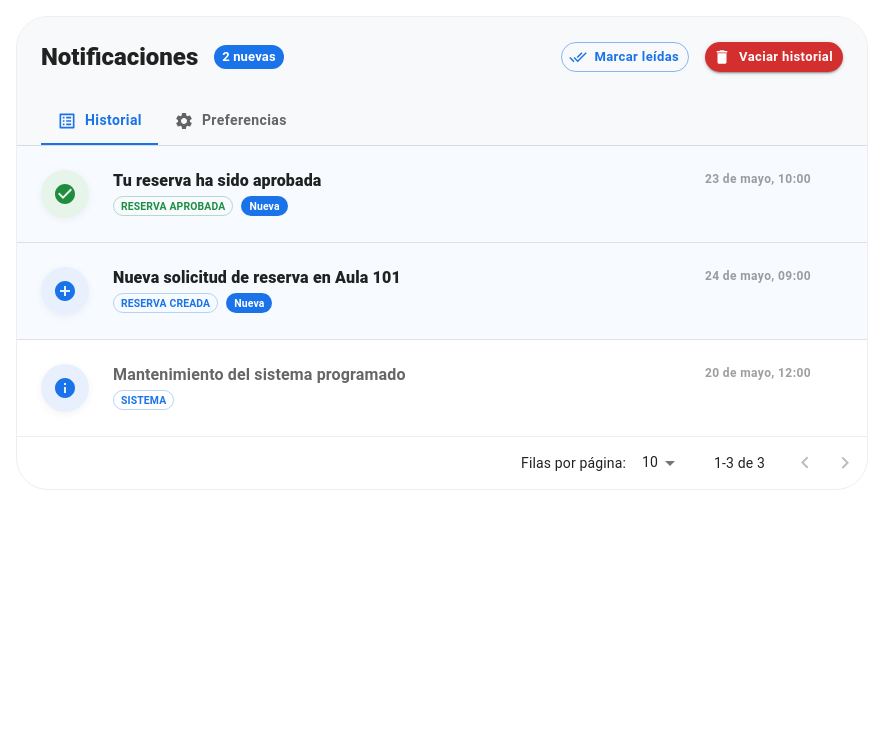
NotificationCenter › debe permitir cambiar a la pestaña de preferencias
The width and height of the screenshot is (885, 729).
Click the tab "Preferencias" at (230, 121), box [158,97,303,145]
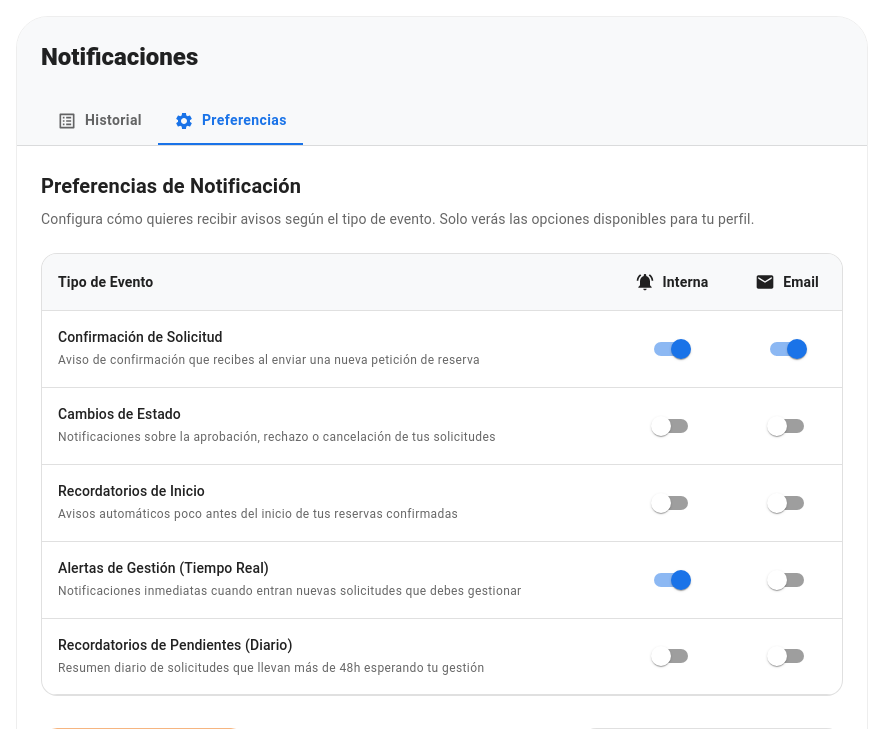
Now the text "Configura cómo quieres recibir avisos" is shown, box [41,211,754,227]
Now the heading "Confirmación de Solicitud" is shown, box [58,329,223,345]
